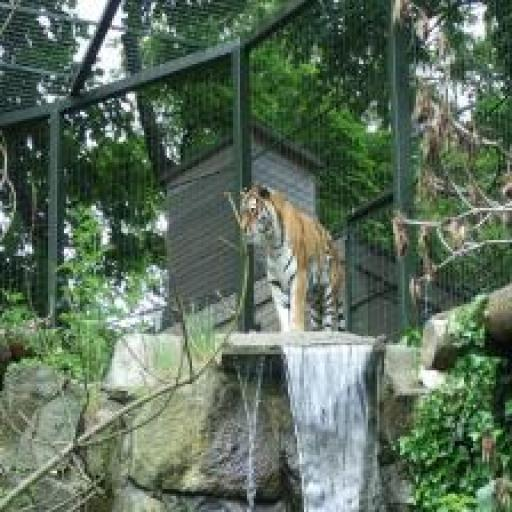Tiger: (235, 181, 366, 354)
